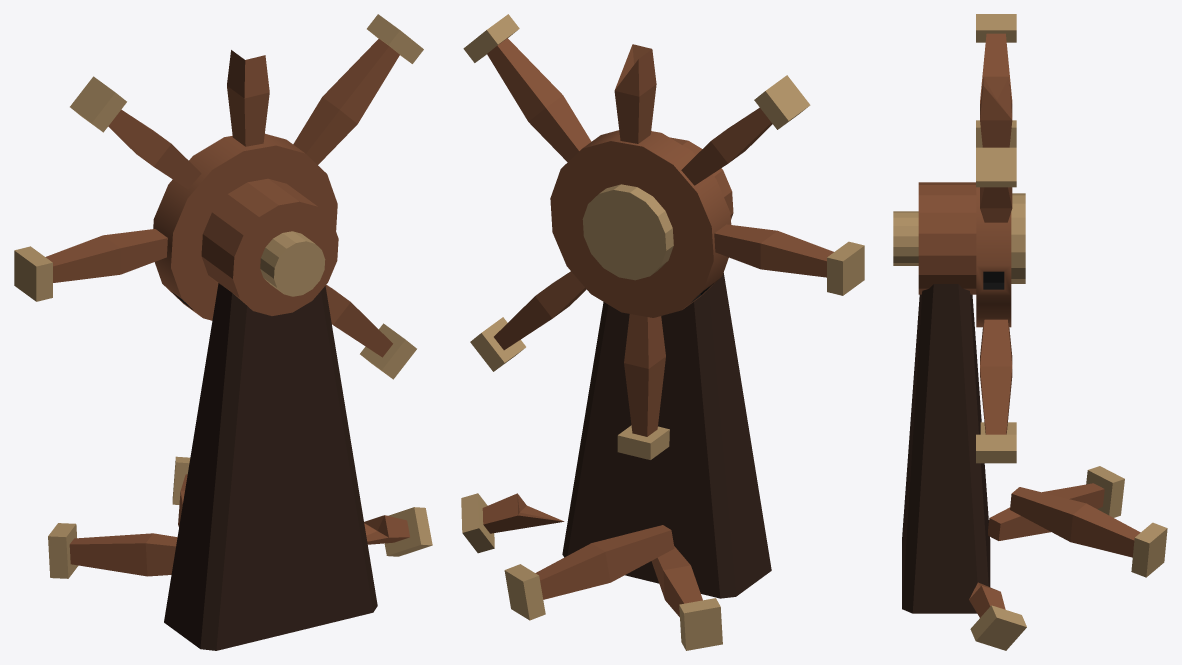
Rendered from Timon_roto.fbx.
3 views of the same model, side by side, from view 1: azimuth 30°, elevation 25°; view 2: azimuth 150°, elevation 25°; view 3: azimuth 270°, elevation 25° (orthographic). The views are drawn at different scales.
Visible parts, largest first — view 1: Timon_roto; view 2: Timon_roto; view 3: Timon_roto.
Part boxes in pixels (box(x1,y1,x2,y2)): Timon_roto: box(14, 14, 432, 650); Timon_roto: box(461, 14, 864, 650); Timon_roto: box(893, 14, 1167, 650).
Bounding box in the file's own units: 1.19 × 1.56 × 0.7706.
